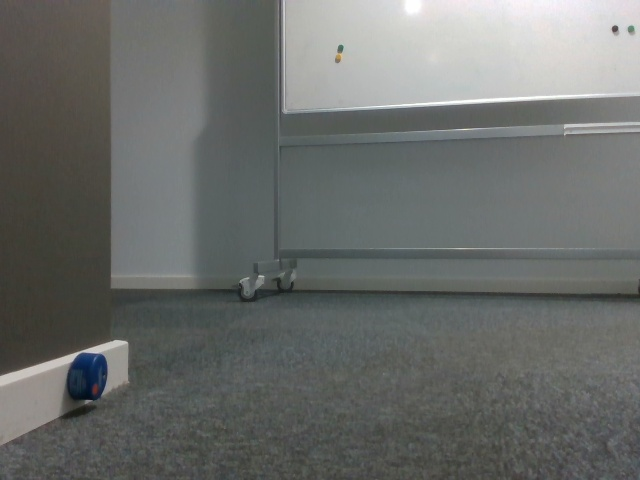alfa: (67, 350, 110, 404)
